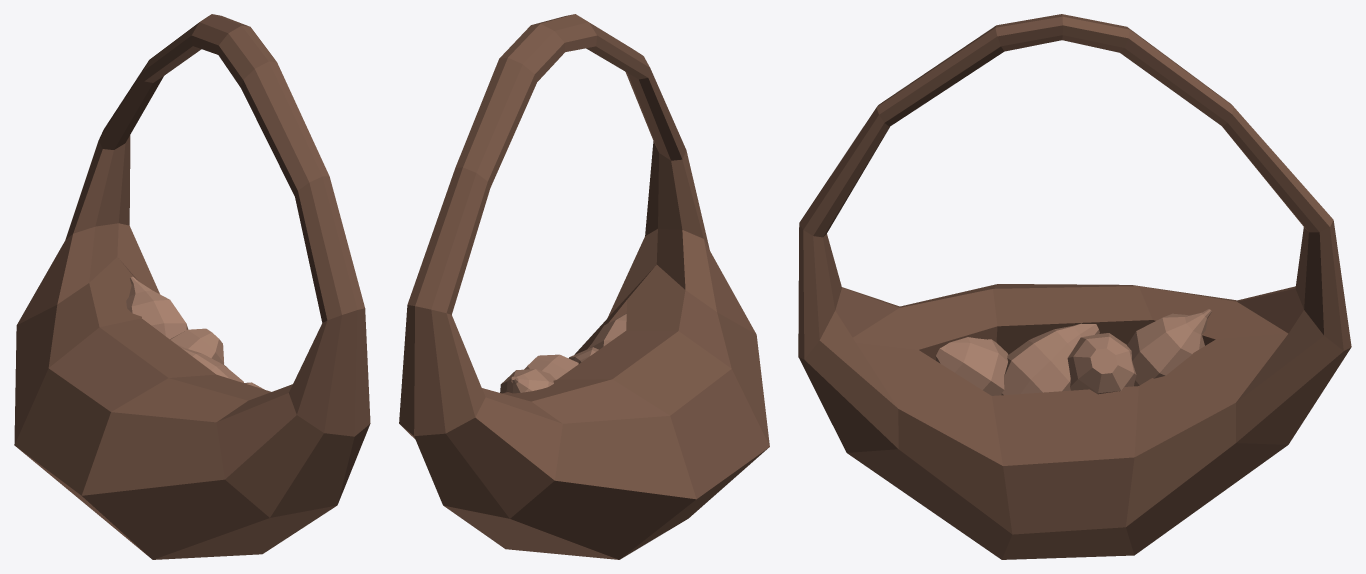
Rendered from rootPouch.fbx.
The picture shows the model from 3 angles, left to right: view 1: azimuth 30°, elevation 25°; view 2: azimuth 150°, elevation 25°; view 3: azimuth 270°, elevation 25°; orthographic projection. The views are drawn at different scales.
Parts seen in each view (by area): view 1: pouch, roots, root; view 2: pouch, roots; view 3: pouch, roots, root.
Part boxes in pixels (x1,y1,x2,y2): pouch: (14, 14, 370, 559); roots: (126, 276, 264, 389); root: (176, 344, 243, 382); pouch: (399, 14, 769, 559); roots: (500, 313, 626, 393); pouch: (798, 14, 1351, 559); roots: (935, 309, 1211, 395); root: (1001, 323, 1099, 395).
Size of the model in its own units: 152 by 314 by 288.
